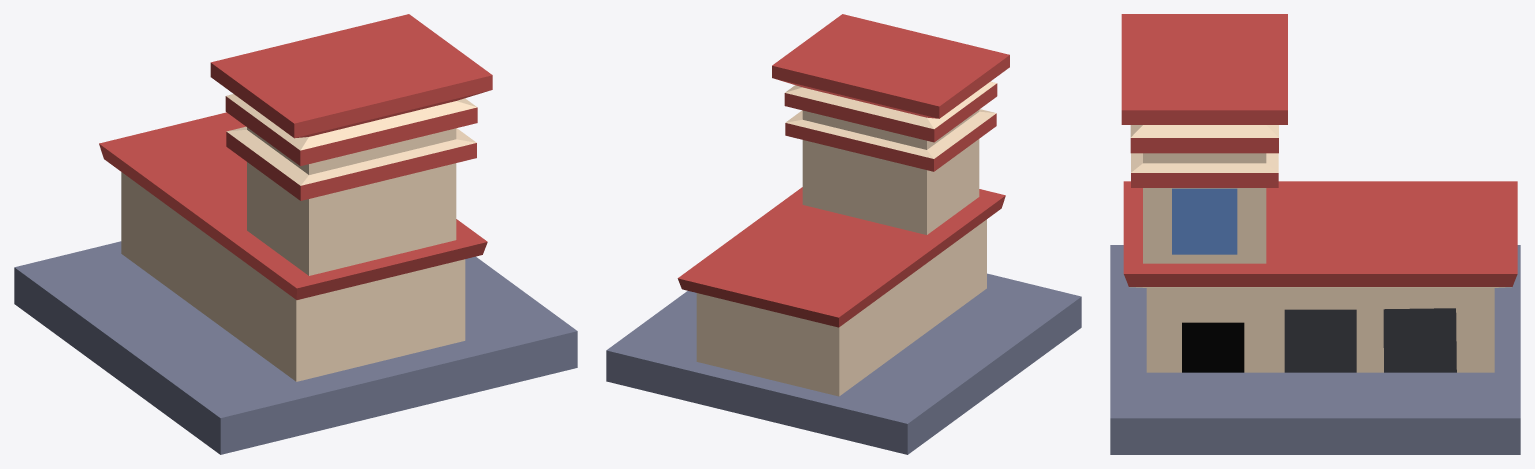
The model's file is fire-station.fbx.
3 views of the same model, side by side, from view 1: azimuth 30°, elevation 25°; view 2: azimuth 150°, elevation 25°; view 3: azimuth 270°, elevation 25° (orthographic). The views are drawn at different scales.
Parts seen in each view (by area): view 1: Cube; view 2: Cube; view 3: Cube.
Boxes of the visible parts, x1,y1,x2,y2 form: Cube: (14, 14, 577, 454); Cube: (606, 14, 1081, 454); Cube: (1110, 14, 1520, 454).
Bounding box in the file's own units: 200 × 200 × 165.
Materials: 1 (1 with a texture image).
